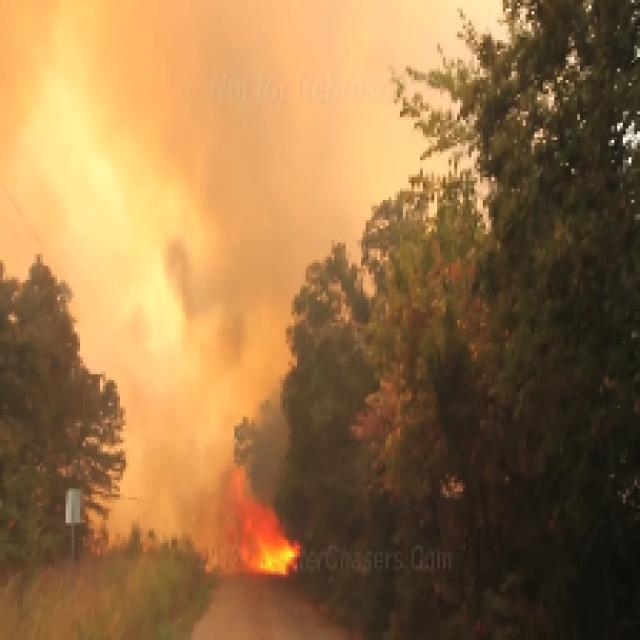Fire: (203, 486, 323, 566)
Smoke: (152, 62, 294, 328)
